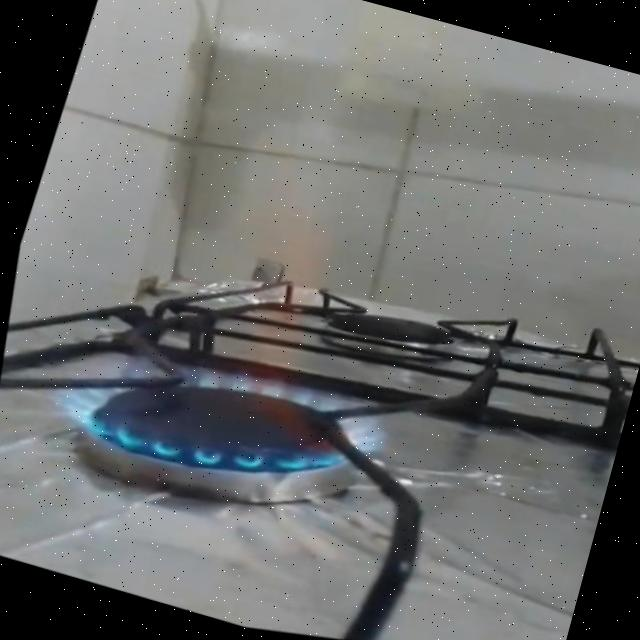fire: (2, 131, 466, 549)
